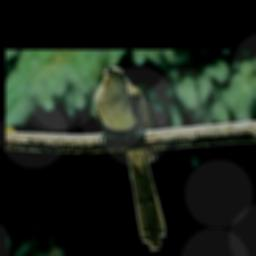Cuckoo: (92, 66, 166, 250)
